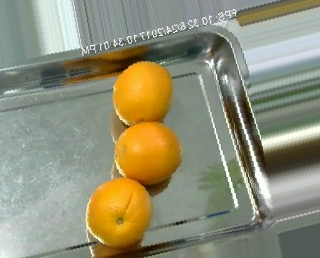Orange: (85, 177, 153, 248), (114, 121, 182, 184), (112, 60, 174, 125)
